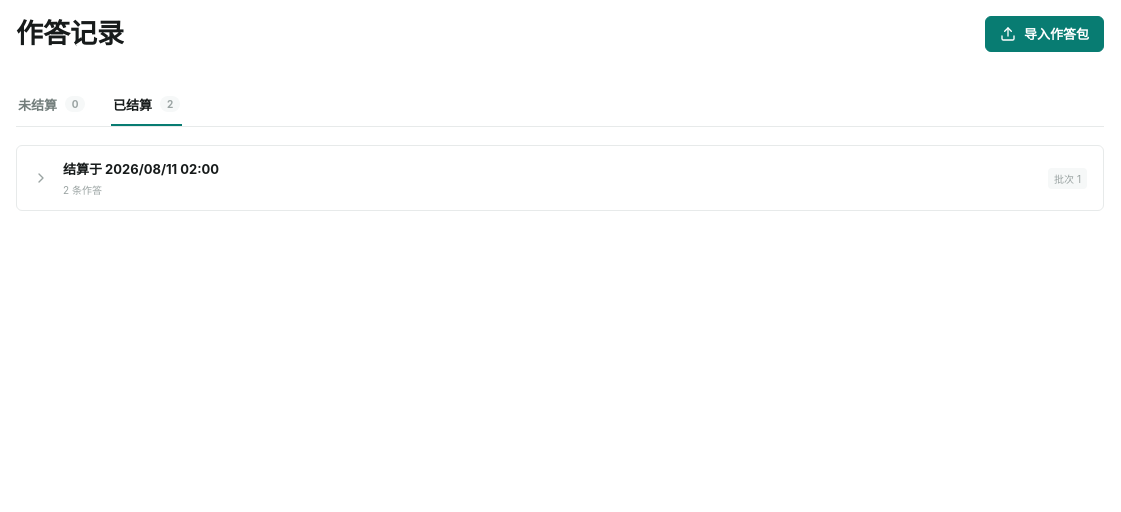
it: 批次报告导出 › 桥不可用时给出明确提示
Click the button "结算于 2026/08/11 02:00 2 条作答 批次 1" at (84, 169), box [17, 146, 1103, 210]
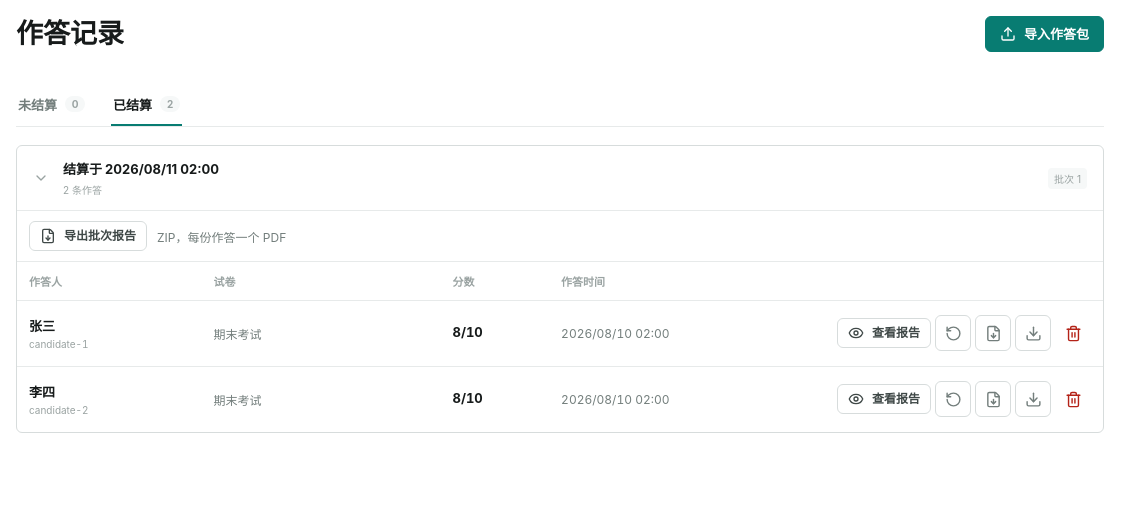
Click the button "导出批次报告" at (88, 236), box [29, 221, 147, 251]
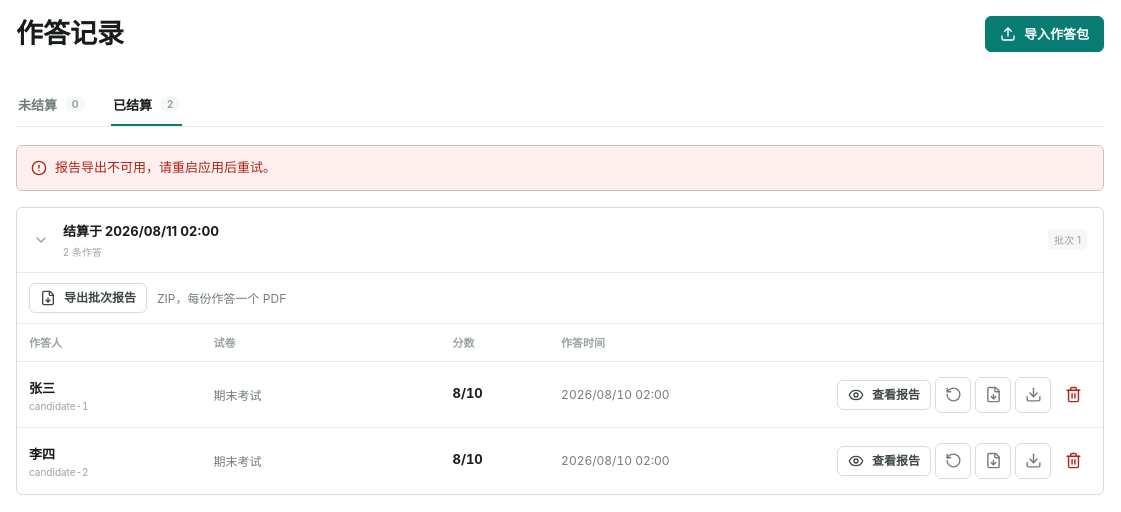
expect the message shows "报告导出不可用": met, box [55, 159, 276, 175]
